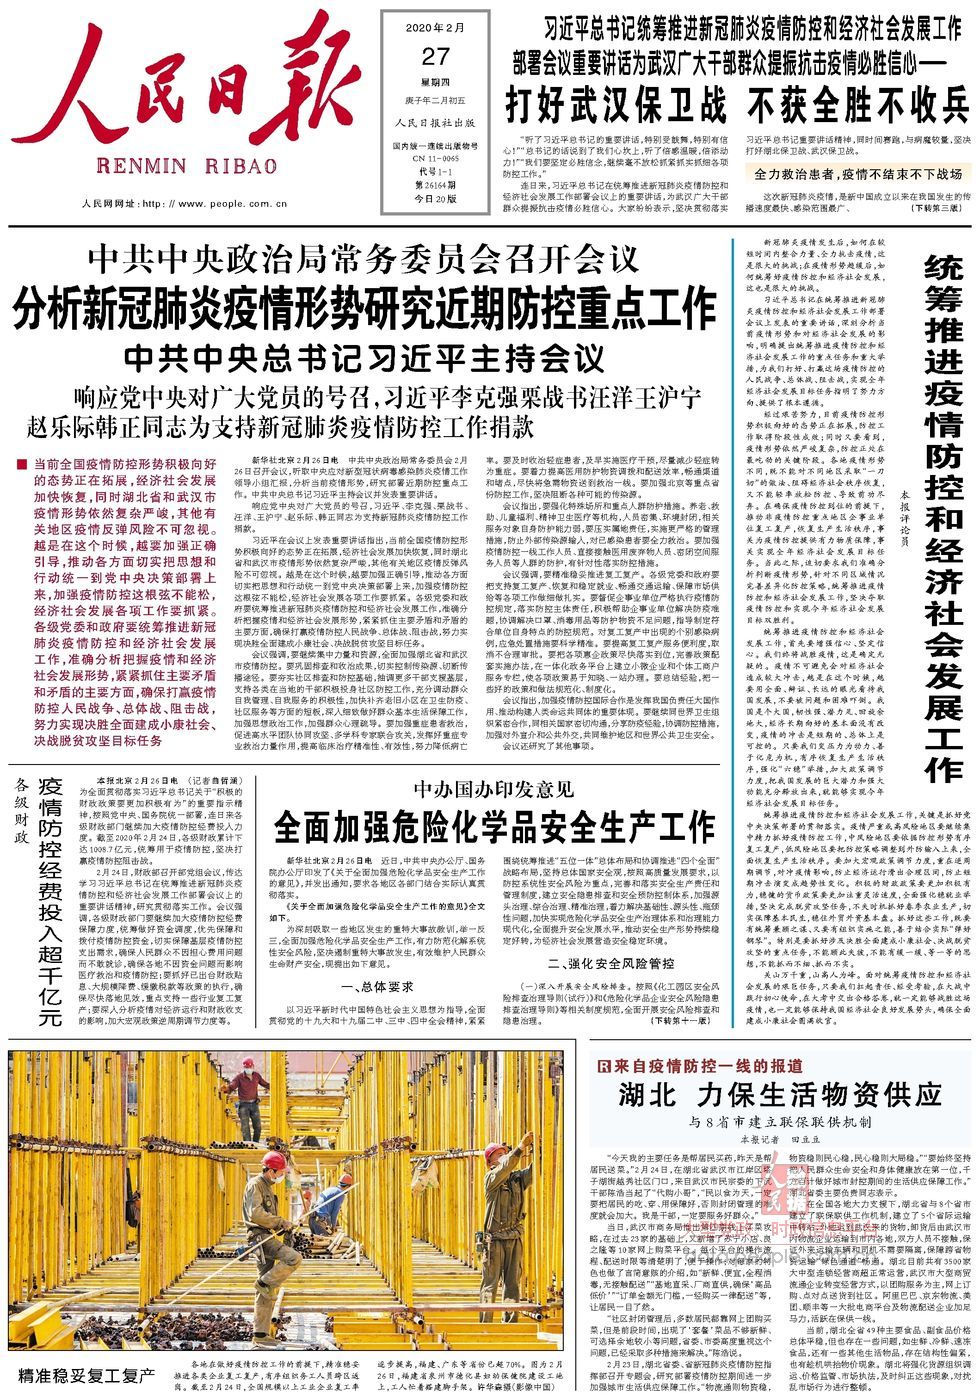pic: (3, 1045, 571, 1357)
